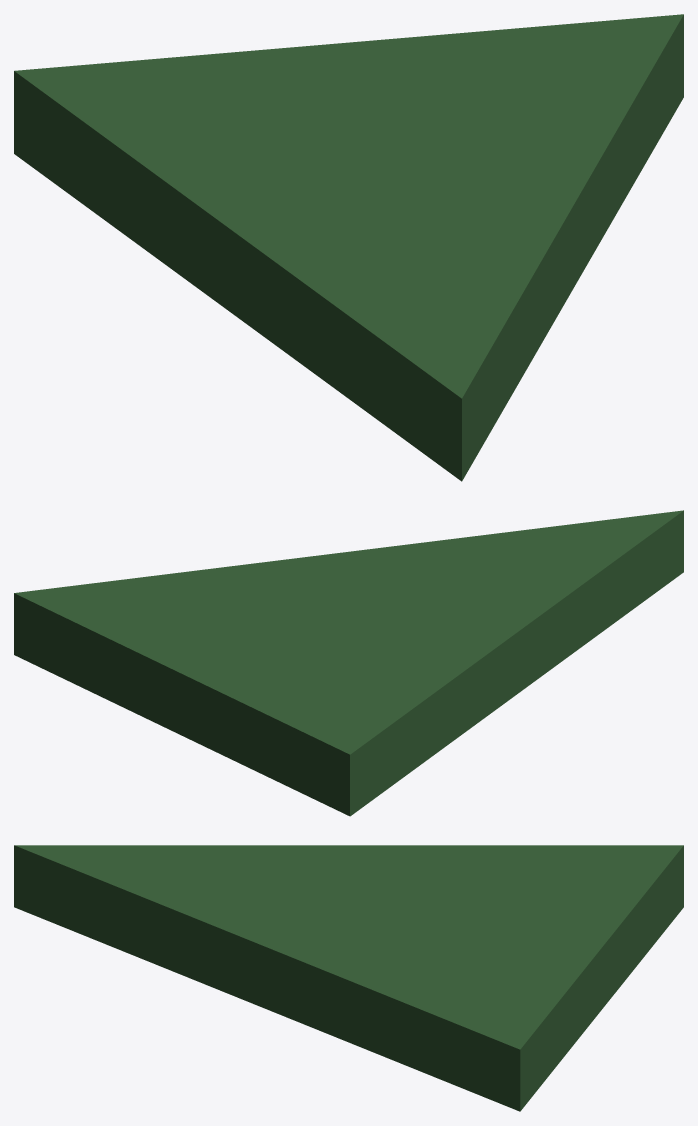
File: x_proval_00_184_1_rmstrd.fbx
3 renders of one model, top to bottom at view 1: azimuth 30°, elevation 25°; view 2: azimuth 150°, elevation 25°; view 3: azimuth 270°, elevation 25°, orthographic. The views are drawn at different scales.
Visible parts, largest first — view 1: x_proval_00_184_1_rmstrd1; view 2: x_proval_00_184_1_rmstrd1; view 3: x_proval_00_184_1_rmstrd1.
Boxes of the visible parts, left/top/right/bottom form: x_proval_00_184_1_rmstrd1: left=14, top=14, right=683, bottom=481; x_proval_00_184_1_rmstrd1: left=14, top=510, right=683, bottom=816; x_proval_00_184_1_rmstrd1: left=14, top=845, right=683, bottom=1111.
Size of the model in its own units: 1.41 by 0.2 by 1.96.
